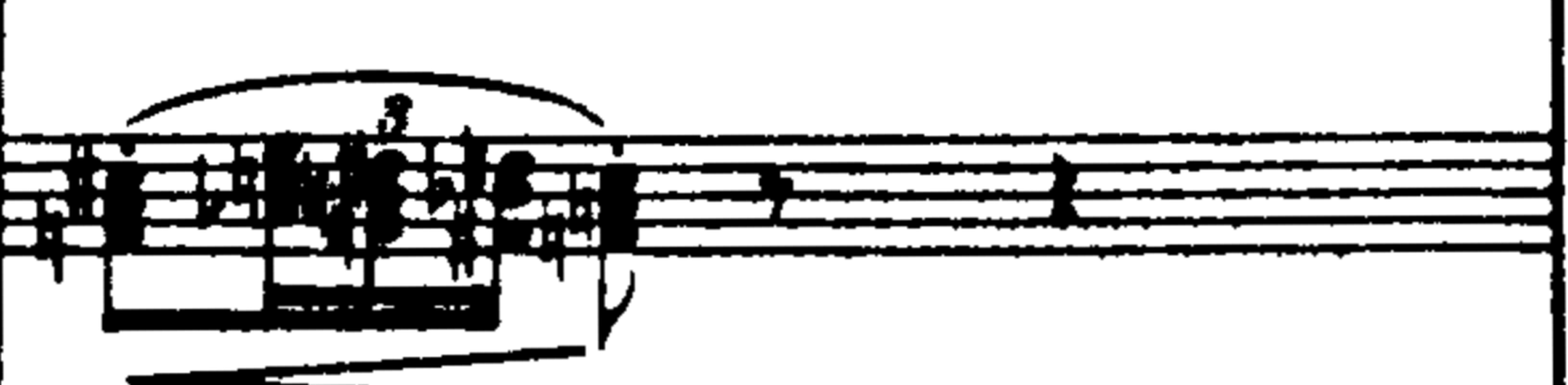accidentalDoubleSharp: (762, 176, 792, 226), (194, 188, 225, 228)
beam: (101, 303, 490, 330), (261, 285, 498, 328)
flag8thDown: (602, 270, 634, 343)
noteheadBlackInSpace: (104, 188, 145, 216), (600, 163, 637, 187), (106, 228, 143, 250)
noteheadBlackOnLine: (495, 150, 535, 181), (495, 179, 532, 207), (367, 182, 404, 209), (372, 210, 403, 242), (372, 149, 405, 179), (327, 207, 354, 235)
restQuarter: (1050, 152, 1074, 215)
